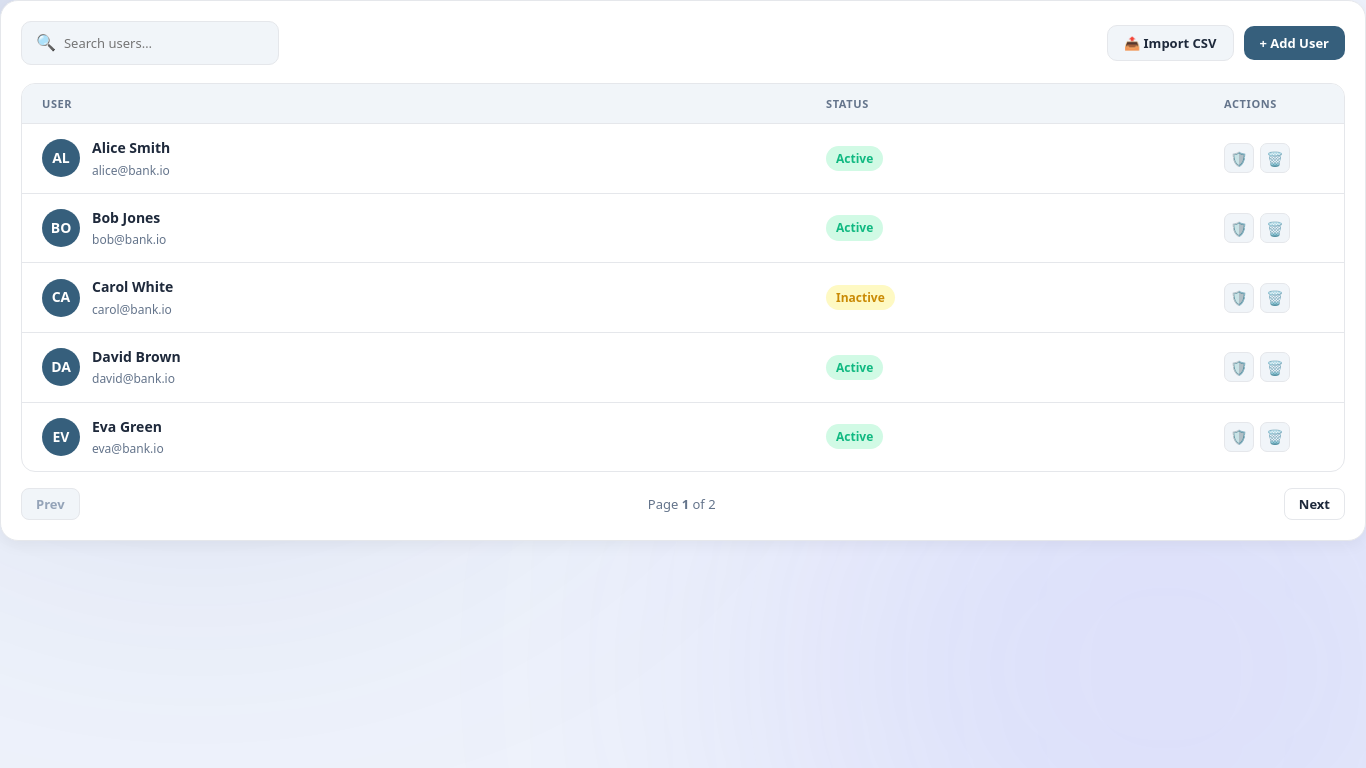
Scenario: Delete User modal › TC-33: opens delete confirmation modal on 🗑️ click
Step 1. Click the button titled "Delete" in the row of "Alice Smith" → [1275, 158], box [1260,144,1290,174]
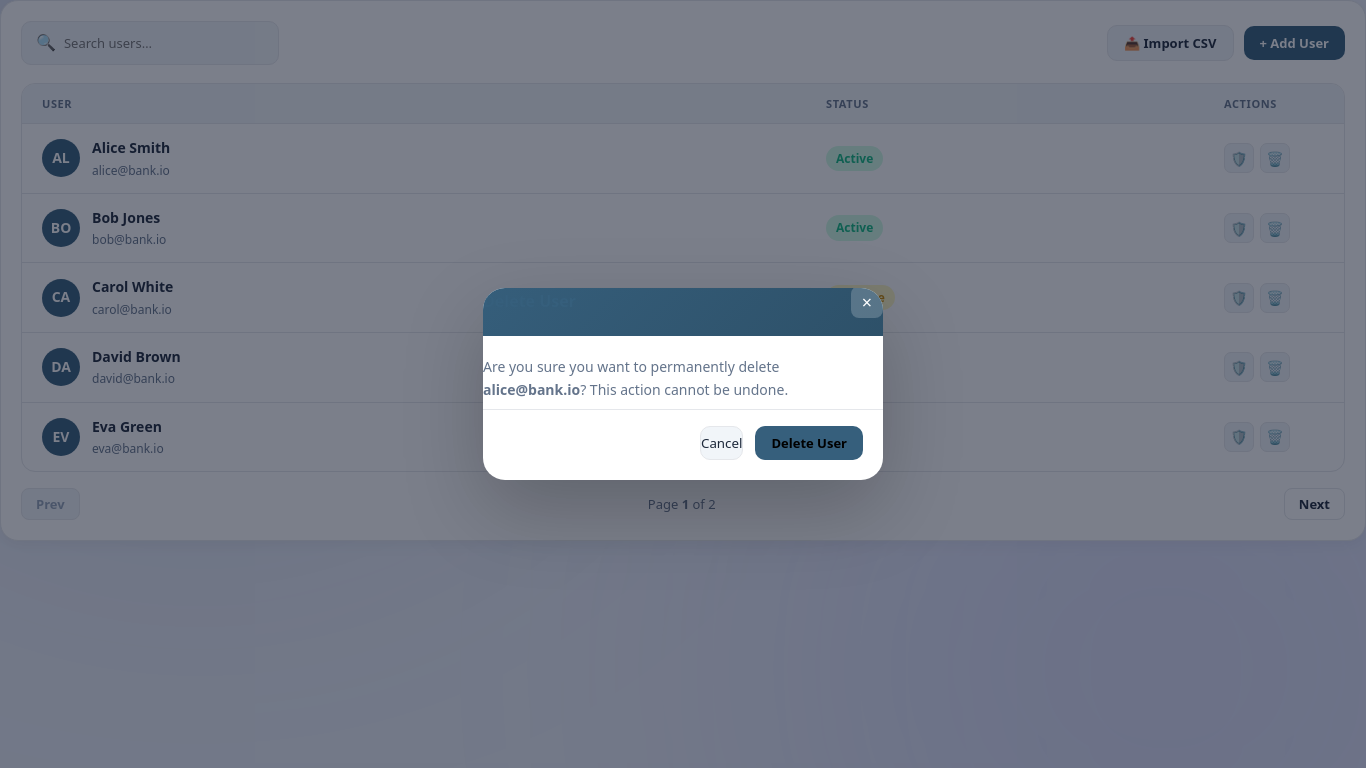
Expected: the text "Are you sure you want to permanently delete" is shown, [483,357,779,376]
